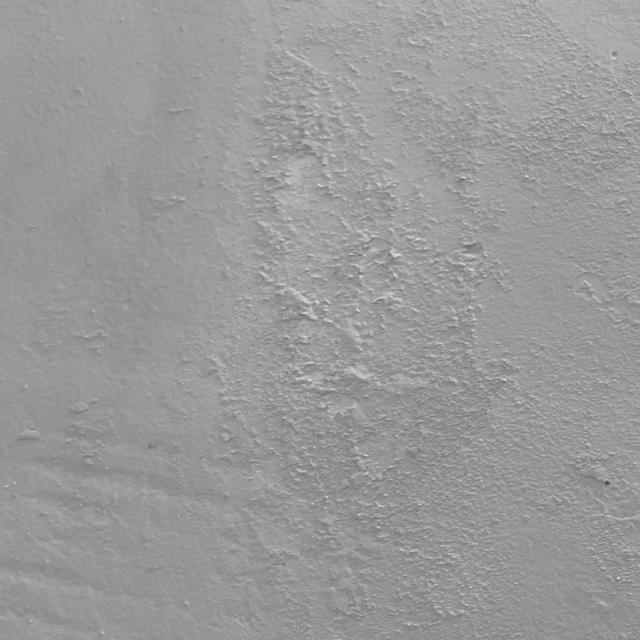rough and patchy surface: (204, 0, 640, 640), (5, 292, 194, 640), (133, 162, 194, 255), (116, 0, 198, 42), (154, 91, 198, 130), (63, 86, 95, 105)
